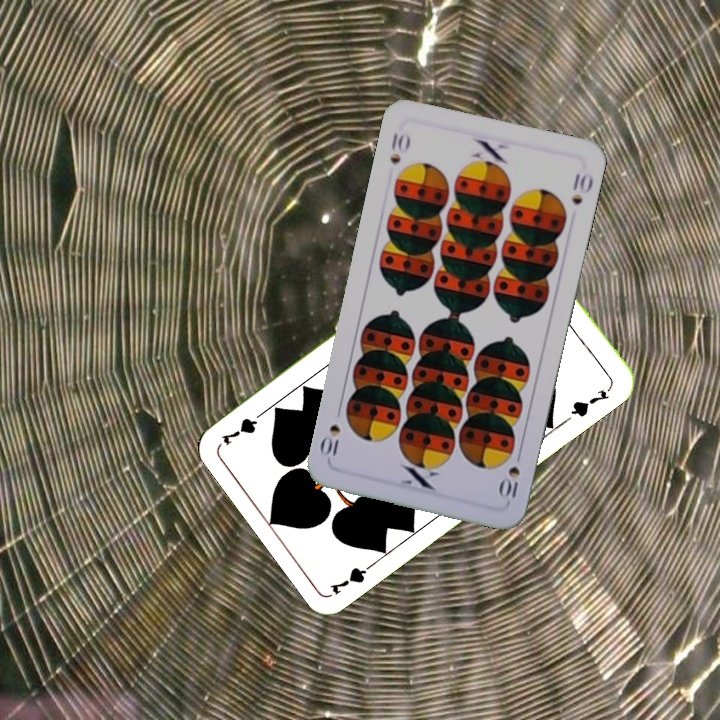G7: (325, 556, 381, 598)
S10: (496, 446, 525, 501), (385, 128, 413, 166)
